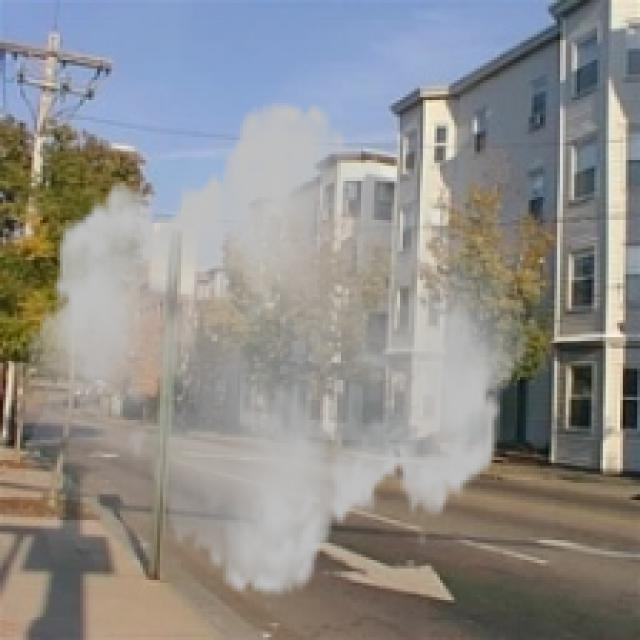smoke: (14, 80, 540, 617)
